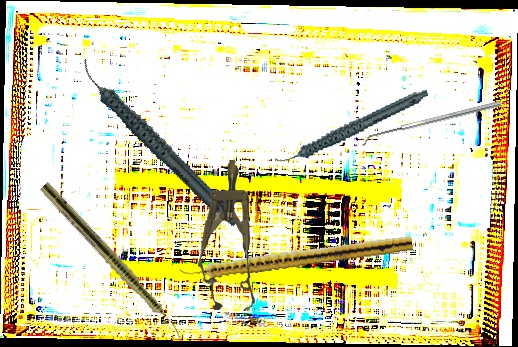Handpiece: (78, 34, 239, 252), (37, 181, 191, 344), (267, 88, 436, 166), (178, 230, 414, 284)
Spatula Surgical: (359, 100, 504, 147)
Speculum: (196, 158, 263, 312)
